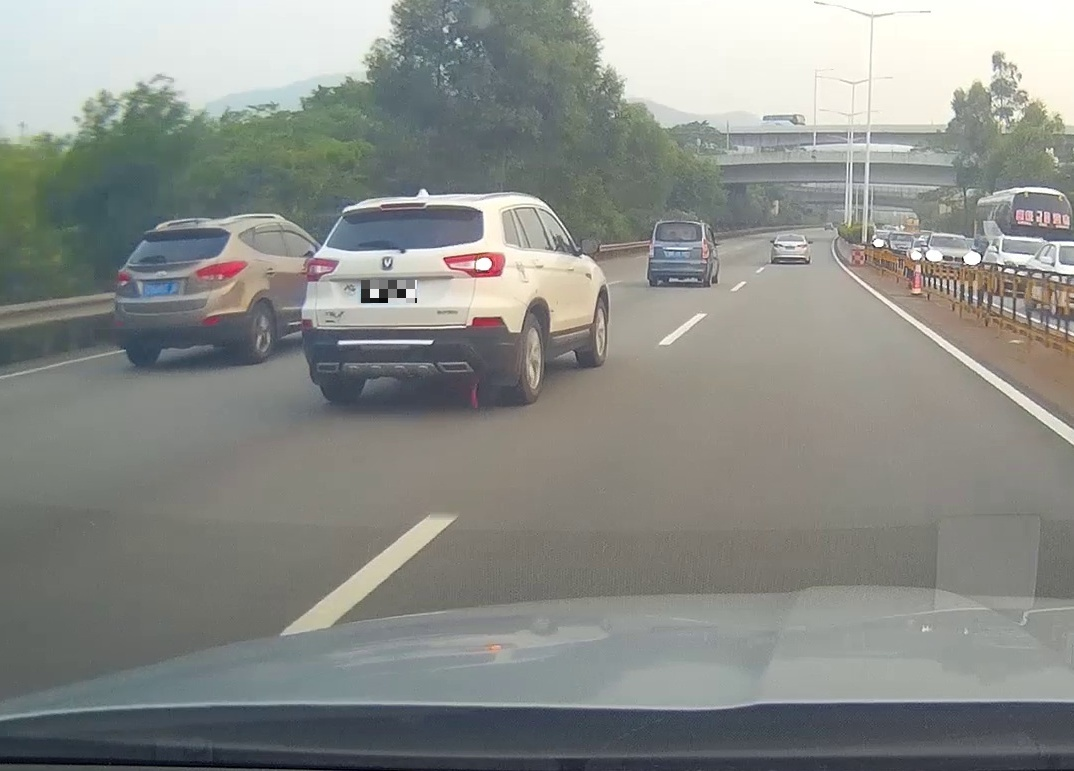L_light: (305, 256, 340, 282), (116, 269, 131, 286), (649, 240, 655, 258), (773, 244, 782, 247)
R_light: (443, 251, 506, 278), (196, 260, 248, 281), (702, 240, 708, 259), (799, 244, 807, 247)
T_light: (380, 202, 427, 209), (167, 230, 190, 234), (670, 237, 683, 241), (788, 236, 795, 237)
day-no: (111, 219, 253, 365), (647, 220, 711, 286), (771, 233, 810, 263)
day-right: (301, 194, 513, 403)
plate_1: (361, 280, 417, 303)
